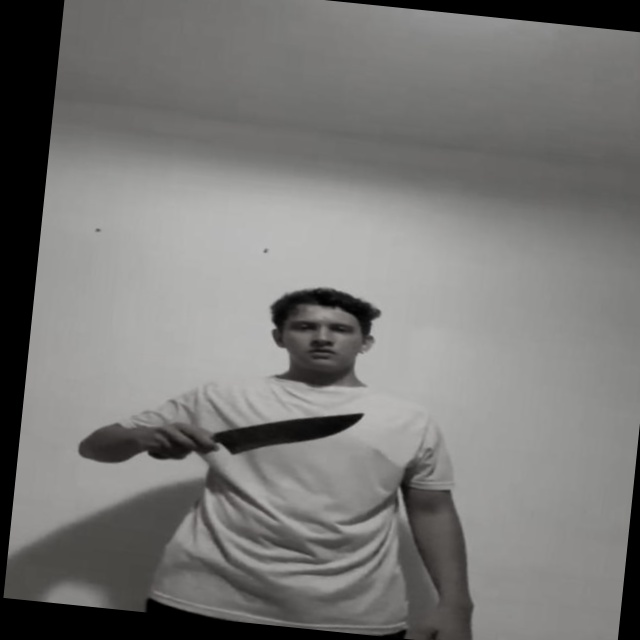Sharp-Object: (218, 399, 362, 464)
